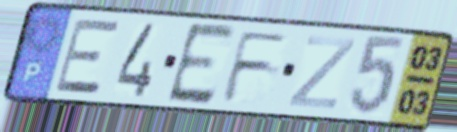4: (114, 21, 157, 100)
5: (347, 34, 408, 120)
E: (163, 20, 240, 108), (52, 18, 122, 97)
F: (218, 29, 293, 105)
Z: (285, 33, 360, 112)
